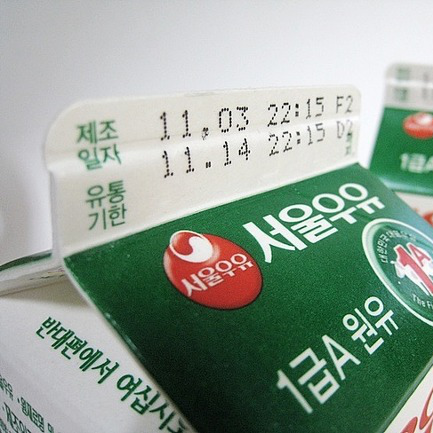milk: (1, 84, 431, 433)
